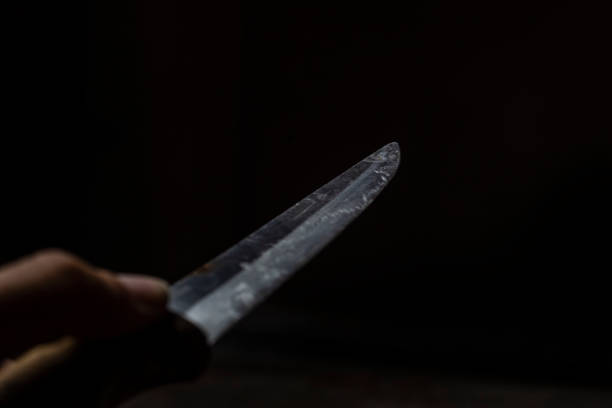knife: (0, 137, 404, 408)
